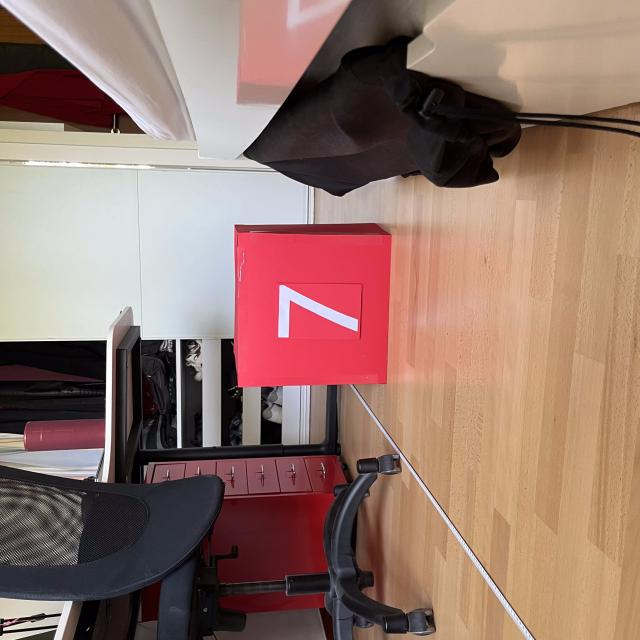box: (228, 219, 396, 389)
